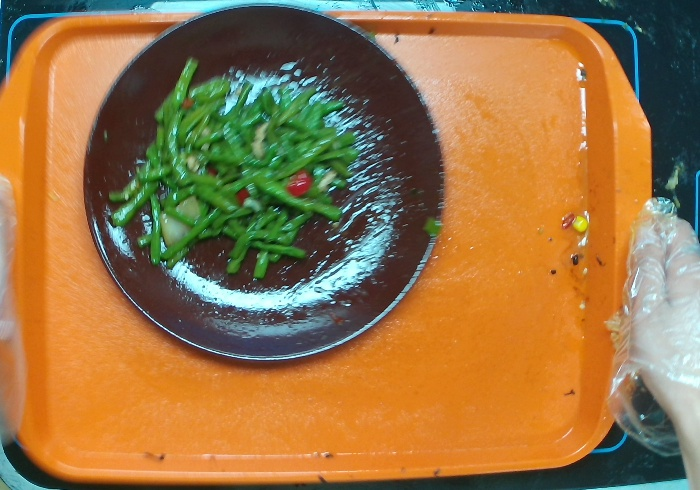HZYJPL-Ka_Fei_Yuan_Pan: (82, 1, 445, 361)
